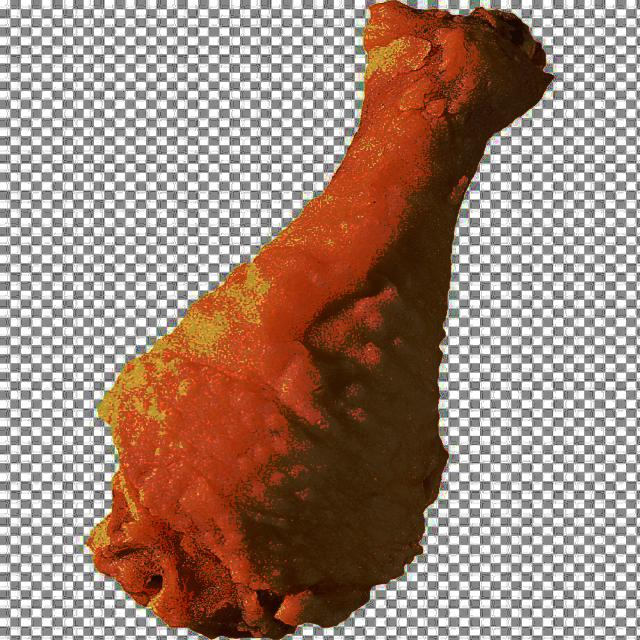fried_chicken: (91, 6, 550, 630)
